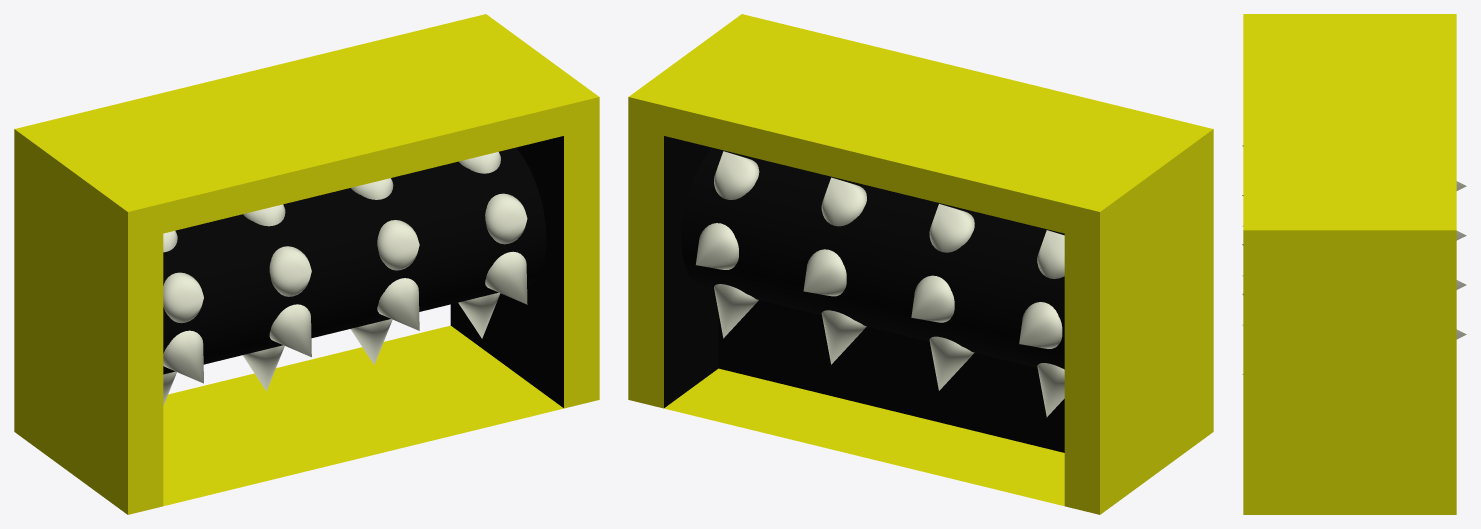
File: EndGame_InvestMachine_V2_Ender.fbx
The picture shows the model from 3 angles, left to right: view 1: azimuth 30°, elevation 25°; view 2: azimuth 150°, elevation 25°; view 3: azimuth 270°, elevation 25°; orthographic projection. The views are drawn at different scales.
Visible parts, largest first — view 1: Ender, Cylinder.001; view 2: Ender, Cylinder.001; view 3: Ender, Cylinder.001.
Part boxes in pixels (left/top/right/bottom): Ender: left=14, top=14, right=599, bottom=514; Cylinder.001: left=163, top=147, right=546, bottom=405; Ender: left=628, top=14, right=1213, bottom=514; Cylinder.001: left=681, top=147, right=1064, bottom=417; Ender: left=1243, top=14, right=1456, bottom=514; Cylinder.001: left=1242, top=145, right=1466, bottom=374.
Bounding box in the file's own units: 1177 × 743 × 517.
